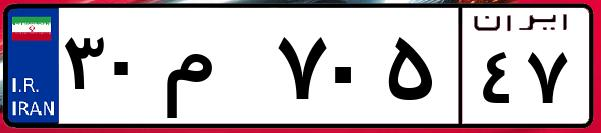0: (330, 28, 385, 110), (110, 28, 158, 98)
3: (57, 26, 110, 100)
4: (475, 38, 525, 113)
5: (385, 28, 445, 110)
7: (270, 28, 330, 110), (525, 38, 570, 115)
م: (158, 20, 270, 120)
